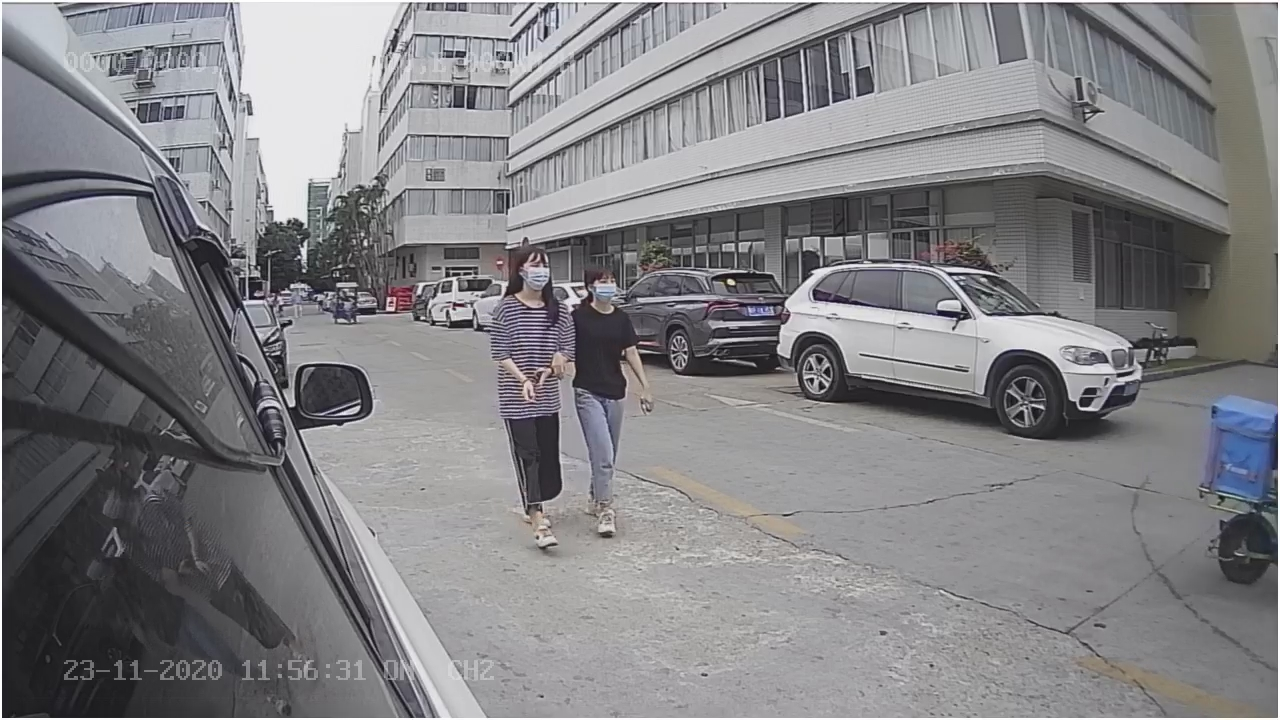person: (484, 239, 578, 555), (568, 267, 659, 547)
